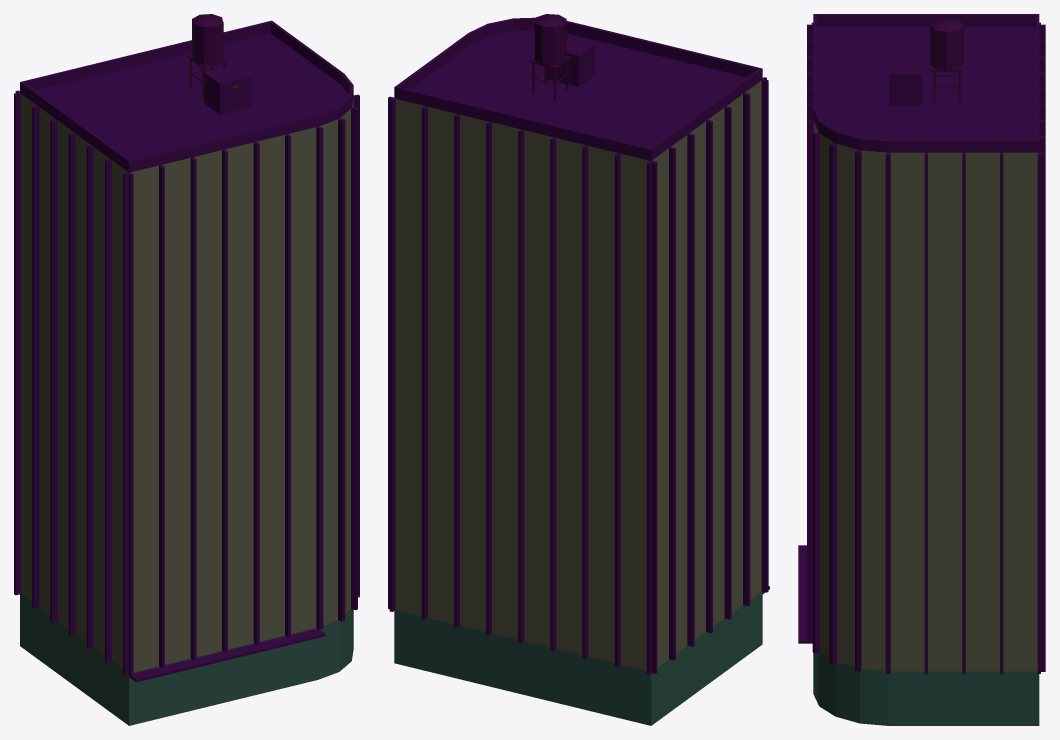
Rendered from commercial_a.glb.
3 views of the same model, side by side, from view 1: azimuth 30°, elevation 25°; view 2: azimuth 150°, elevation 25°; view 3: azimuth 270°, elevation 25° (orthographic). The views are drawn at different scales.
Visible parts, largest first — view 1: commercial_a; view 2: commercial_a; view 3: commercial_a.
Part boxes in pixels (<box>): commercial_a: <box>14,14,359,725</box>; commercial_a: <box>388,14,769,725</box>; commercial_a: <box>798,14,1045,725</box>.
Size of the model in its own units: 25.02 by 57.08 by 19.7.
